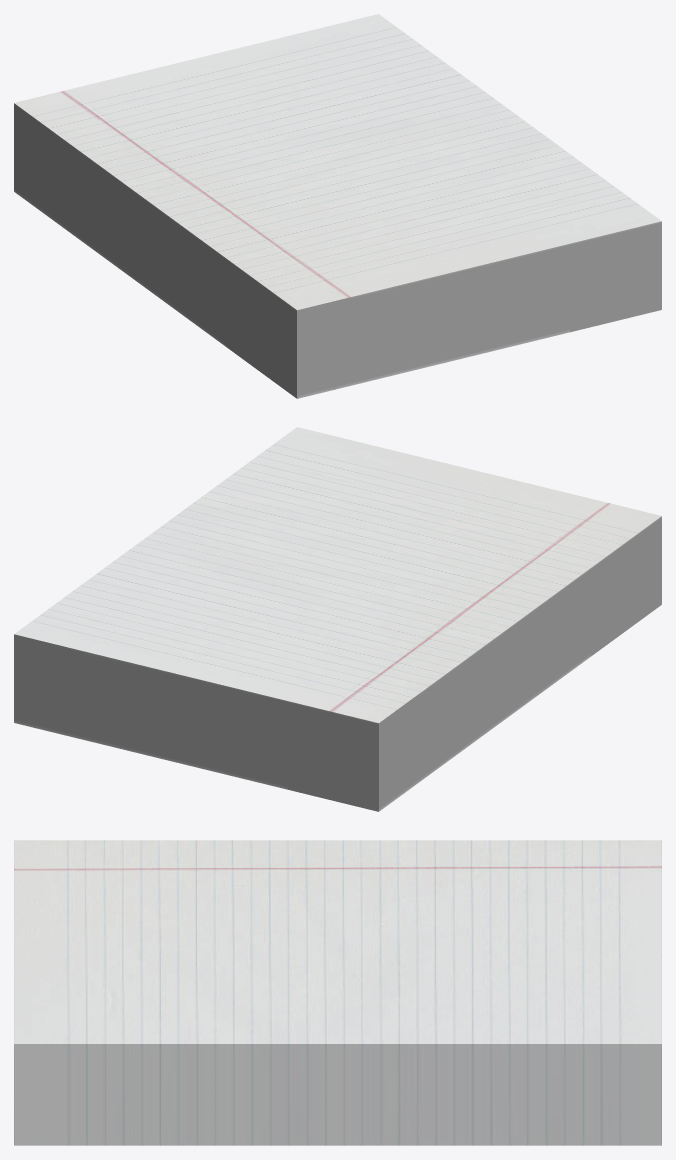
File: stackPapierPropre.fbx
3 renders of one model, top to bottom at view 1: azimuth 30°, elevation 25°; view 2: azimuth 150°, elevation 25°; view 3: azimuth 270°, elevation 25°, orthographic. The views are drawn at different scales.
Visible parts, largest first — view 1: Pile_Papier_Droit; view 2: Pile_Papier_Droit; view 3: Pile_Papier_Droit.
Part boxes in pixels (x1,y1,x2,y2): Pile_Papier_Droit: (14, 14, 661, 398); Pile_Papier_Droit: (14, 427, 661, 811); Pile_Papier_Droit: (14, 840, 661, 1145).
Size of the model in its own units: 51.72 by 12.01 by 69.51.
